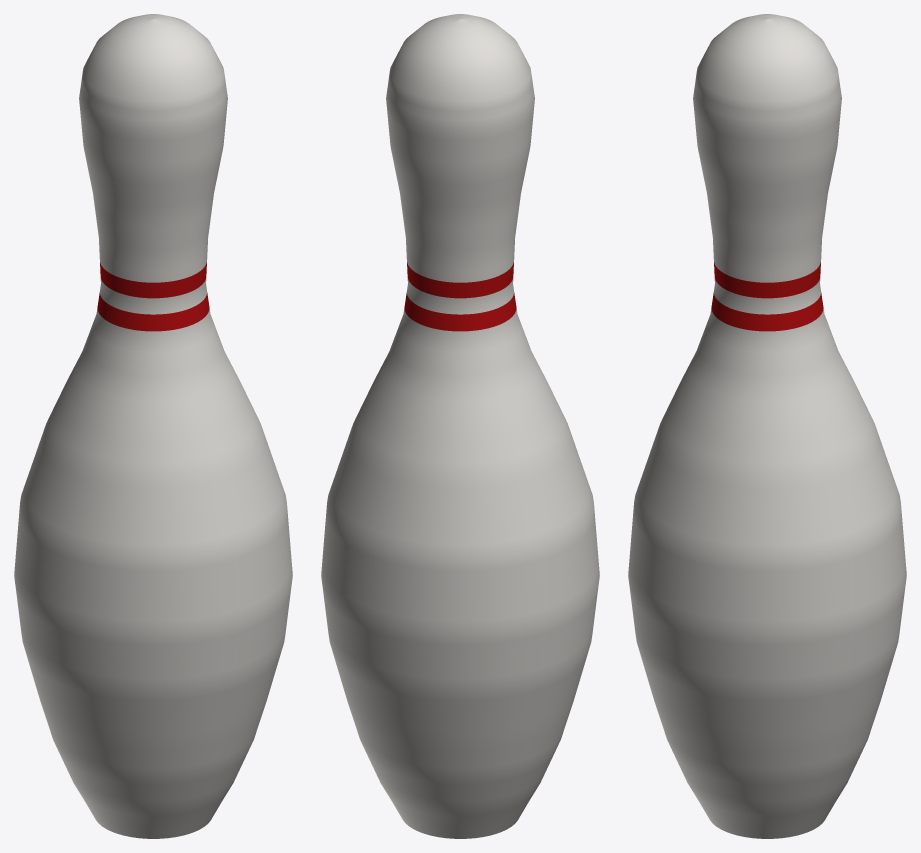
The model's file is SM_BowlingPin.obj.
3 views of the same model, side by side, from view 1: azimuth 30°, elevation 25°; view 2: azimuth 150°, elevation 25°; view 3: azimuth 270°, elevation 25° (orthographic).
Parts seen in each view (by area): view 1: SM_BowlingPin; view 2: SM_BowlingPin; view 3: SM_BowlingPin.
Boxes of the visible parts, x1,y1,x2,y2 form: SM_BowlingPin: [14, 14, 292, 838]; SM_BowlingPin: [321, 14, 599, 838]; SM_BowlingPin: [628, 14, 906, 838].
Size of the model in its own units: 12.11 by 38.1 by 12.11.
